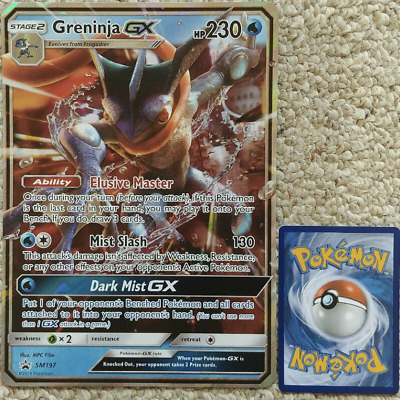greninja: (11, 16, 266, 237)
